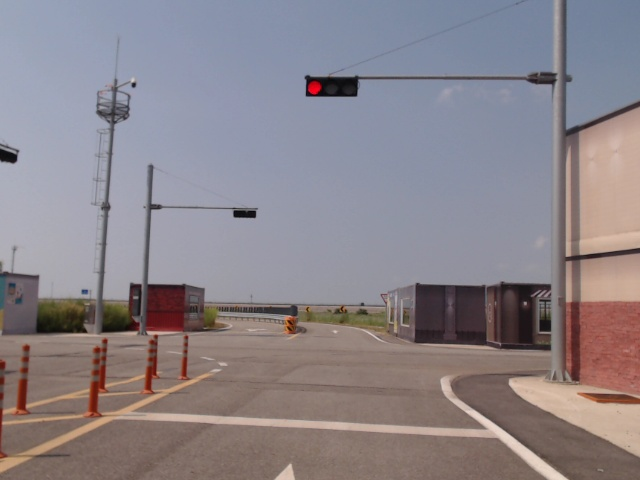red_3: (306, 76, 357, 97)
